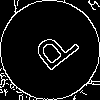P: (25, 25, 82, 79)
